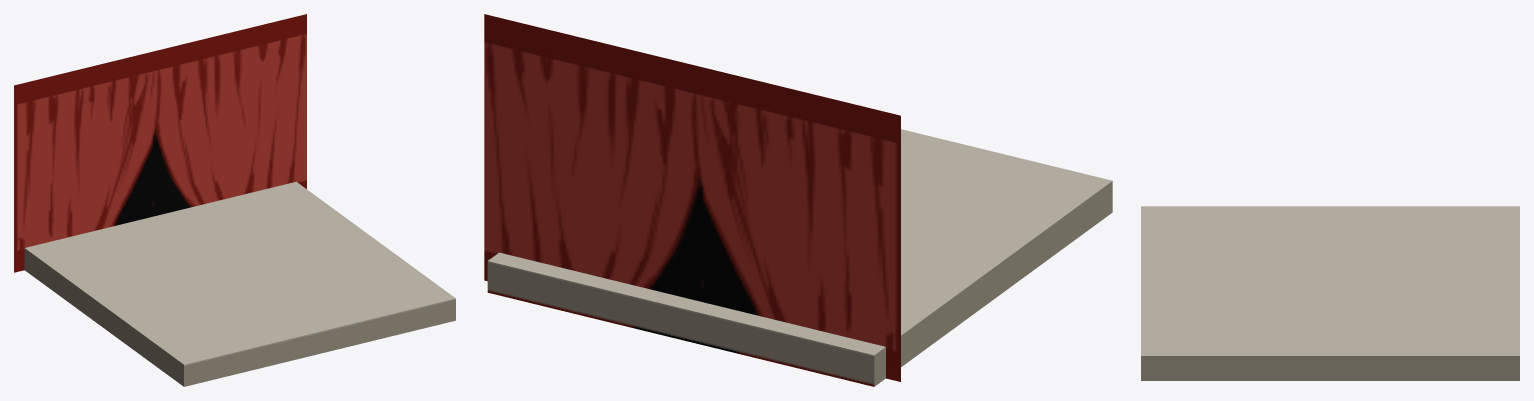
The model's file is StageSet.fbx.
3 views of the same model, side by side, from view 1: azimuth 30°, elevation 25°; view 2: azimuth 150°, elevation 25°; view 3: azimuth 270°, elevation 25° (orthographic). The views are drawn at different scales.
Visible parts, largest first — view 1: Stage, Curtain; view 2: Curtain, Stage; view 3: Stage.
Boxes of the visible parts, x1=… form: Stage: x1=24, y1=181, x2=455, y2=386; Curtain: x1=14, y1=14, x2=306, y2=272; Curtain: x1=484, y1=14, x2=900, y2=381; Stage: x1=487, y1=129, x2=1112, y2=386; Stage: x1=1141, y1=206, x2=1519, y2=380.
Size of the model in its own units: 8919 by 5448 by 8840.
Materials: 1 (1 with a texture image).
